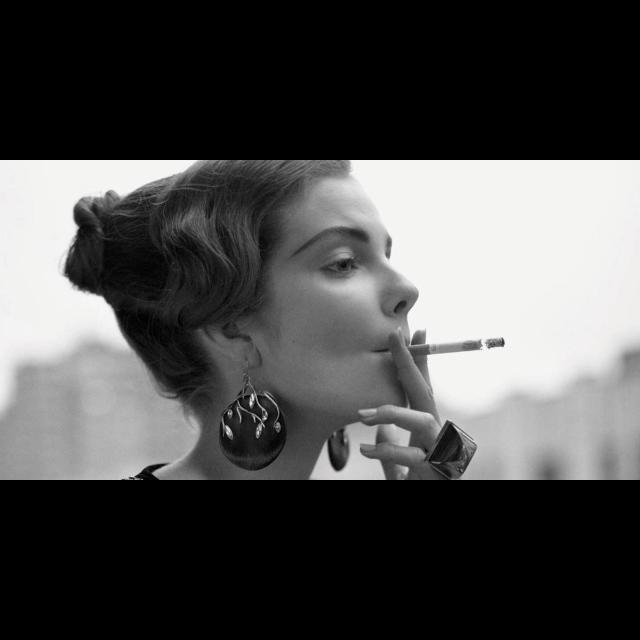rokok: (404, 327, 512, 363)
